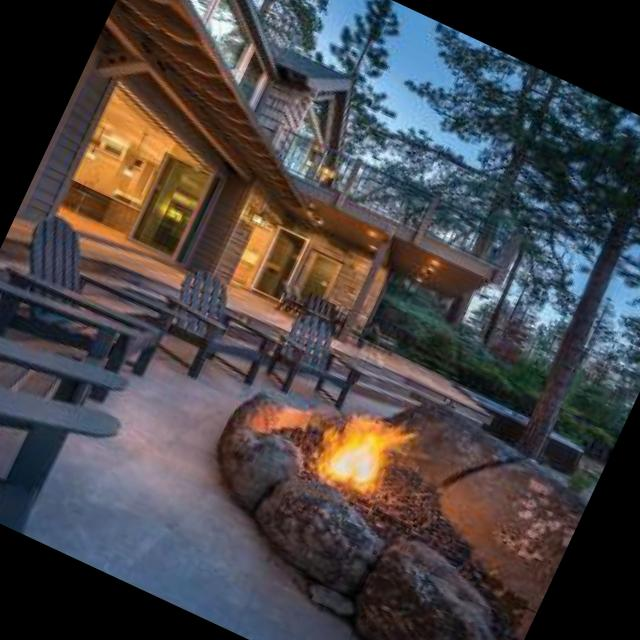fire: (302, 376, 444, 522)
